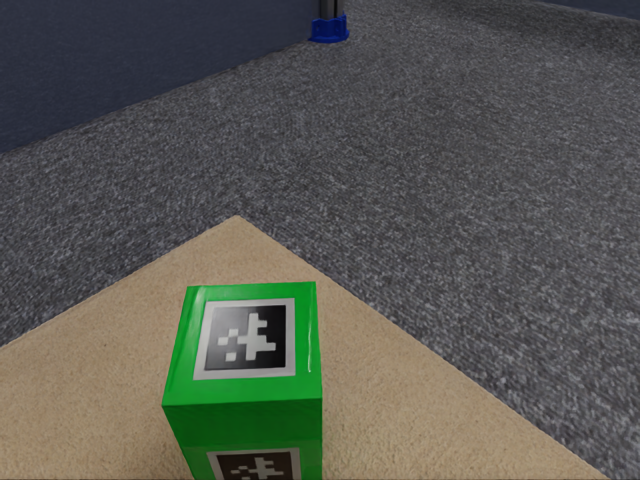puck_green_box: (161, 281, 322, 479)
